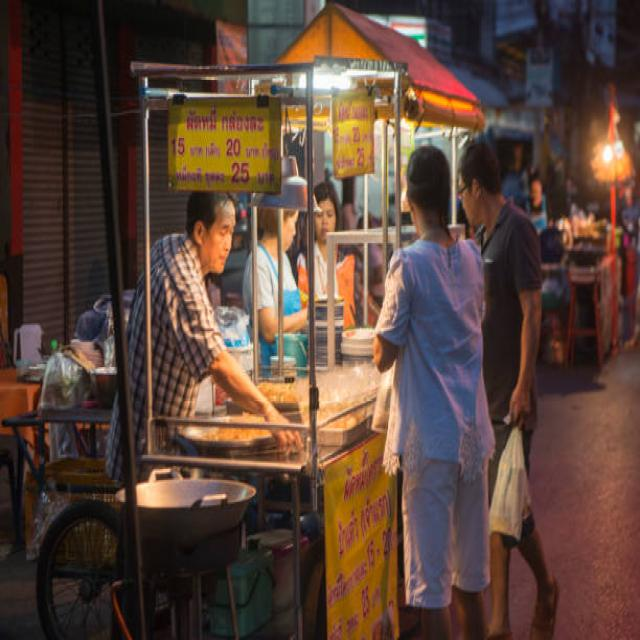Emperan: (105, 26, 441, 640)
